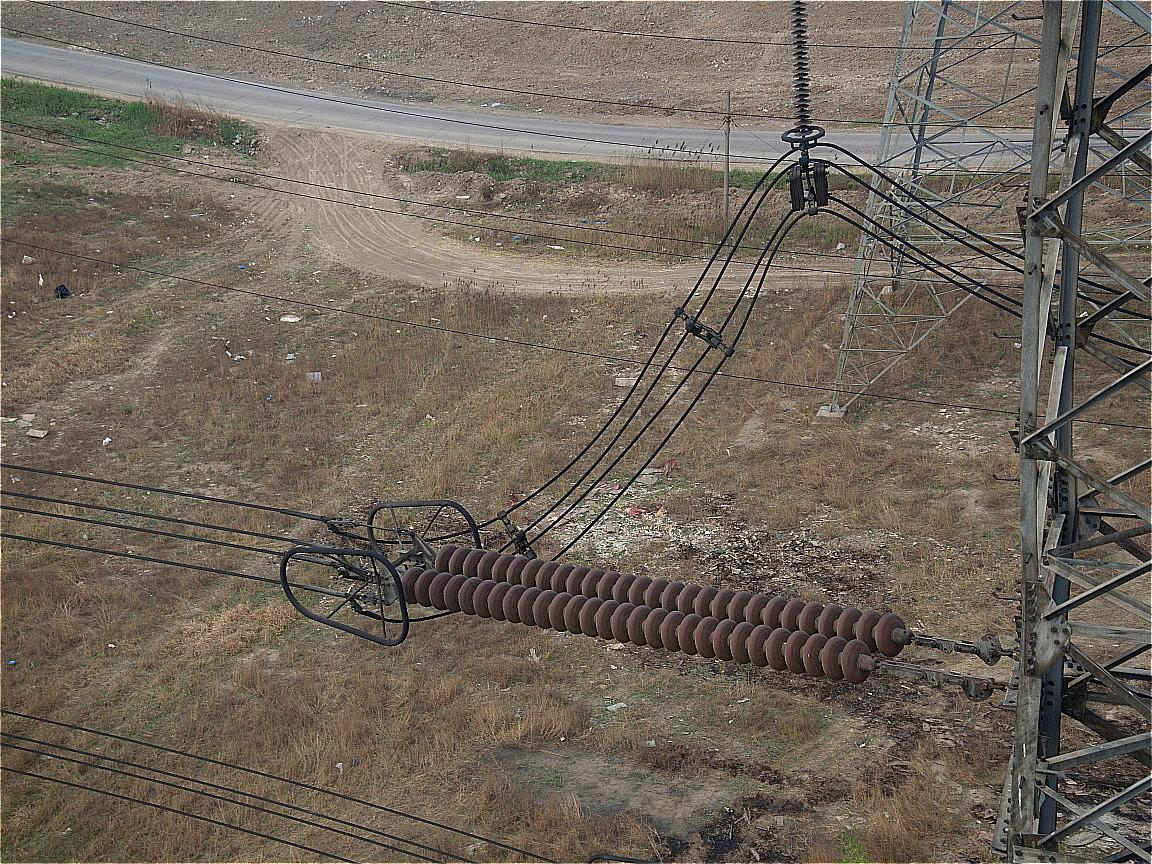insultor1: (403, 545, 906, 683)
